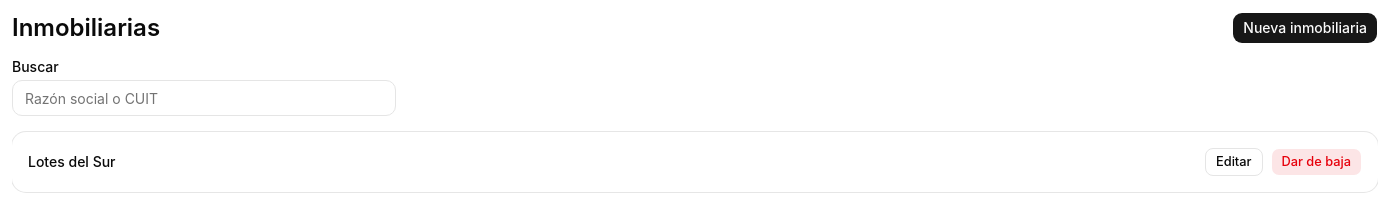
AgenciesPage › keeps the agency when the baja is cancelled
Check: the text "Lotes del Sur" is shown, box [28,152,116,172]
Click the button "Dar de baja" at (1316, 162), box [1270,148,1362,176]
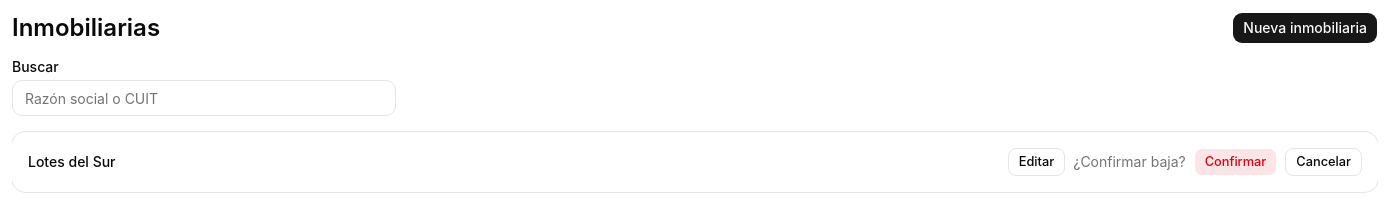
Click the button "Cancelar" at (1324, 162), box [1285,148,1362,176]
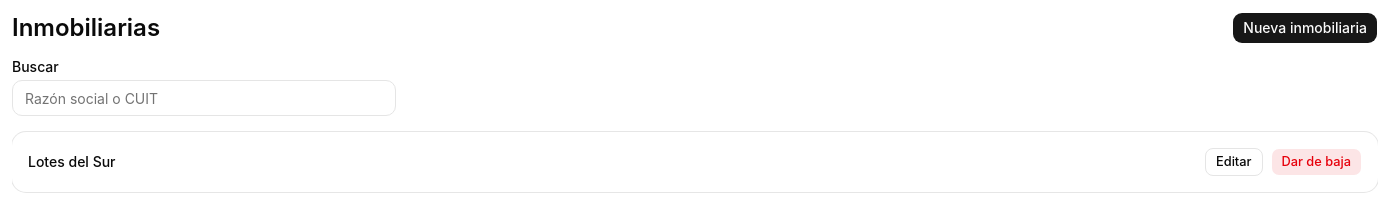
Check: the text "Lotes del Sur" is shown, box [28,152,116,172]
Check: the button "Dar de baja" is shown, box [1270,148,1362,176]
